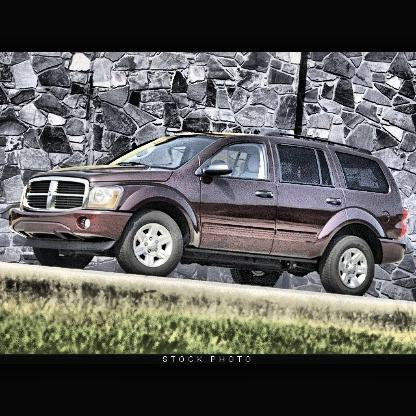Dodge Durango SUV 2007: (11, 133, 408, 298)
